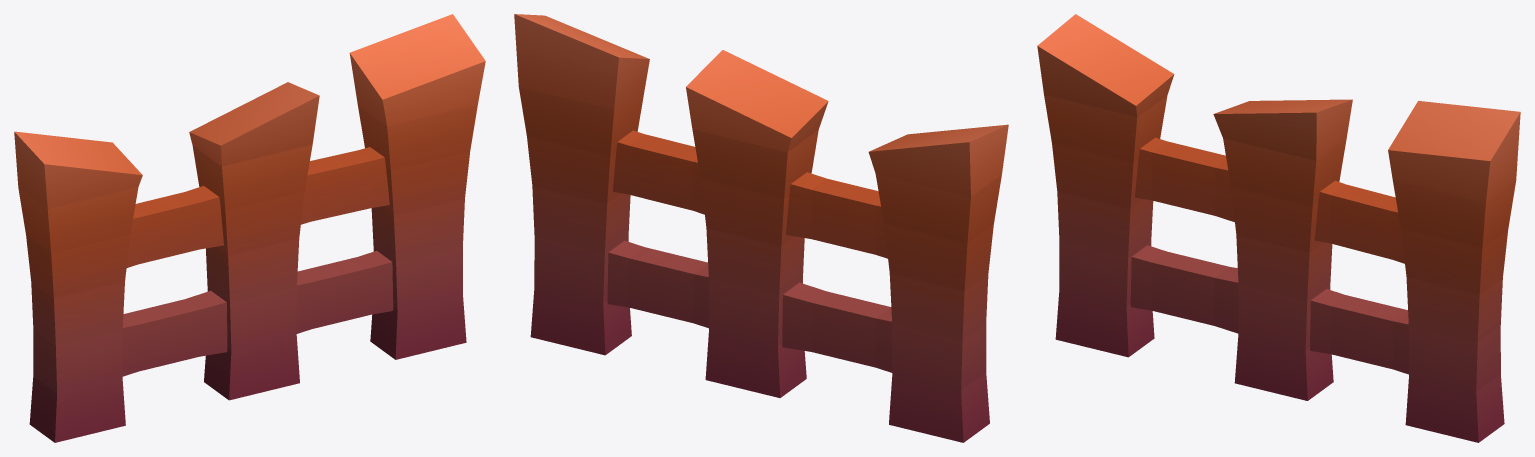
The model's file is Fence_Variant_2.fbx.
The picture shows the model from 3 angles, left to right: view 1: azimuth 30°, elevation 25°; view 2: azimuth 150°, elevation 25°; view 3: azimuth 330°, elevation 25°; orthographic projection. The views are drawn at different scales.
Visible parts, largest first — view 1: Fence 2; view 2: Fence 2; view 3: Fence 2.
Boxes of the visible parts, x1=… form: Fence 2: x1=14, y1=14, x2=485, y2=442; Fence 2: x1=514, y1=14, x2=1008, y2=442; Fence 2: x1=1037, y1=14, x2=1520, y2=442.
Bounding box in the file's own units: 208 × 138 × 29.72.
